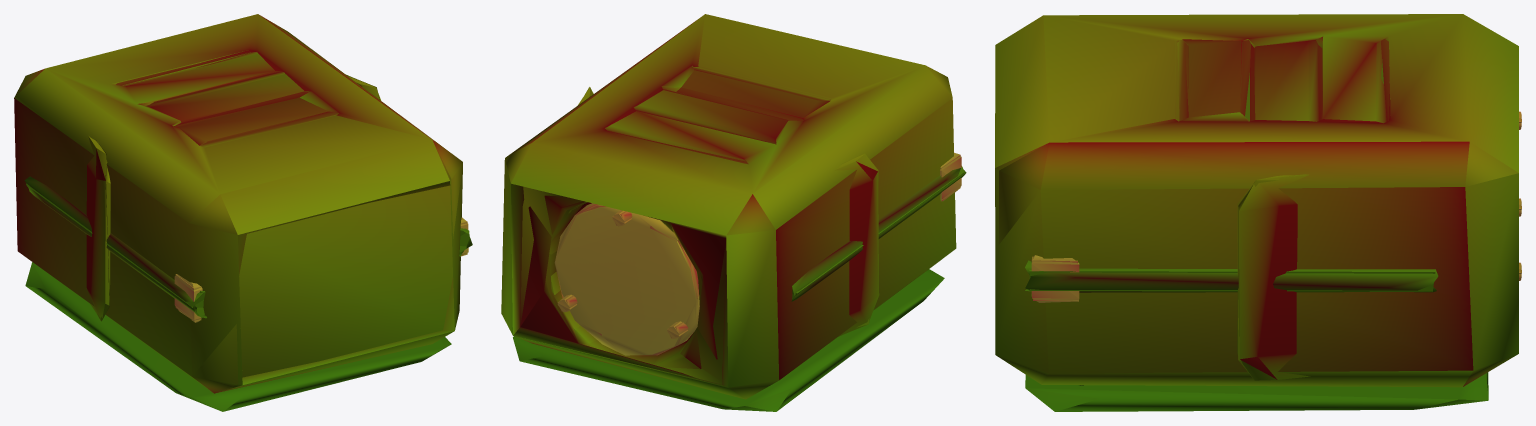
The model's file is RCLModule_assault_walker_orbital_drop_pod_cermet_aps_LODs.fbx.
3 renders of one model, left to right at view 1: azimuth 30°, elevation 25°; view 2: azimuth 150°, elevation 25°; view 3: azimuth 270°, elevation 25°, orthographic. The views are drawn at different scales.
Parts seen in each view (by area): view 1: LOD1_RCLModule_assault_walker_orbital_drop_pod_cermet_aps_Ba (×3), LOD2_RCLModule_assault_walker_orbital_drop_pod_cermet_aps_Ba (×2); view 2: LOD1_RCLModule_assault_walker_orbital_drop_pod_cermet_aps_Ba (×3), LOD2_RCLModule_assault_walker_orbital_drop_pod_cermet_aps_Ba (×2); view 3: LOD1_RCLModule_assault_walker_orbital_drop_pod_cermet_aps_Ba (×3), LOD2_RCLModule_assault_walker_orbital_drop_pod_cermet_aps_Ba (×2).
Part boxes in pixels (bbox=[...]): LOD1_RCLModule_assault_walker_orbital_drop_pod_cermet_aps_Ba (×3): bbox=[14, 14, 472, 411]; LOD2_RCLModule_assault_walker_orbital_drop_pod_cermet_aps_Ba (×2): bbox=[26, 51, 469, 393]; LOD1_RCLModule_assault_walker_orbital_drop_pod_cermet_aps_Ba (×3): bbox=[501, 14, 966, 411]; LOD2_RCLModule_assault_walker_orbital_drop_pod_cermet_aps_Ba (×2): bbox=[513, 67, 960, 384]; LOD1_RCLModule_assault_walker_orbital_drop_pod_cermet_aps_Ba (×3): bbox=[995, 14, 1521, 411]; LOD2_RCLModule_assault_walker_orbital_drop_pod_cermet_aps_Ba (×2): bbox=[998, 39, 1435, 385].
Size of the model in its own units: 30.13 by 21.36 by 39.73.
